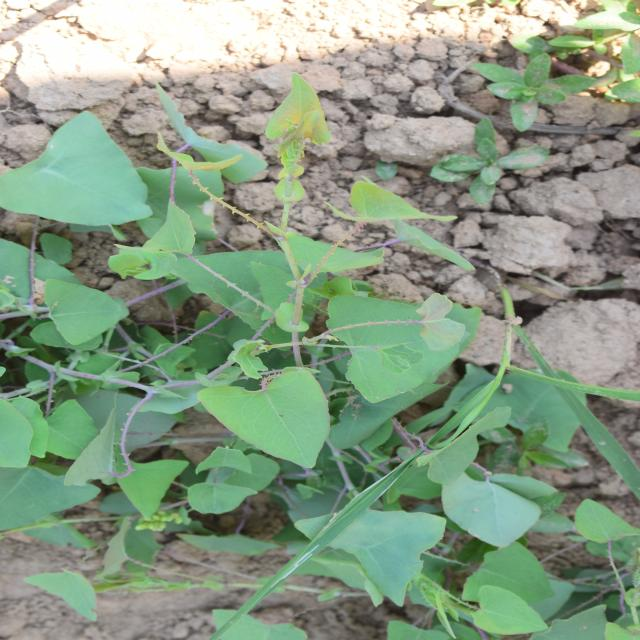Asiatic_Smartweed: (166, 187, 362, 473), (408, 0, 524, 158)
